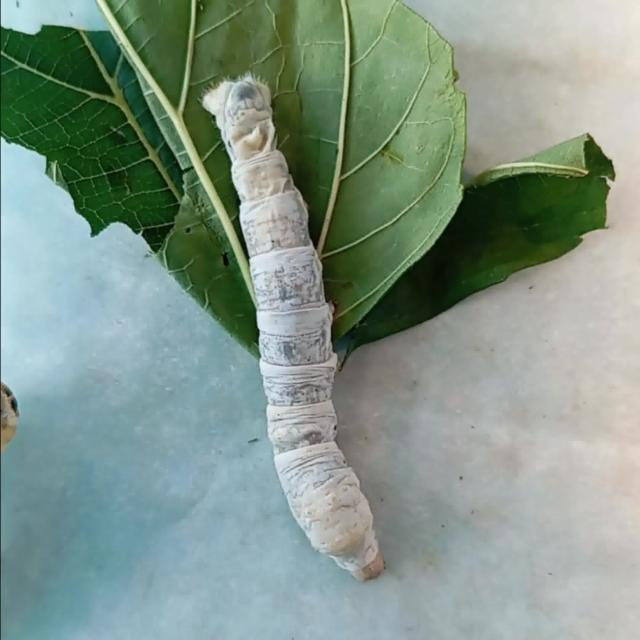Grasserie: (188, 49, 410, 591)
